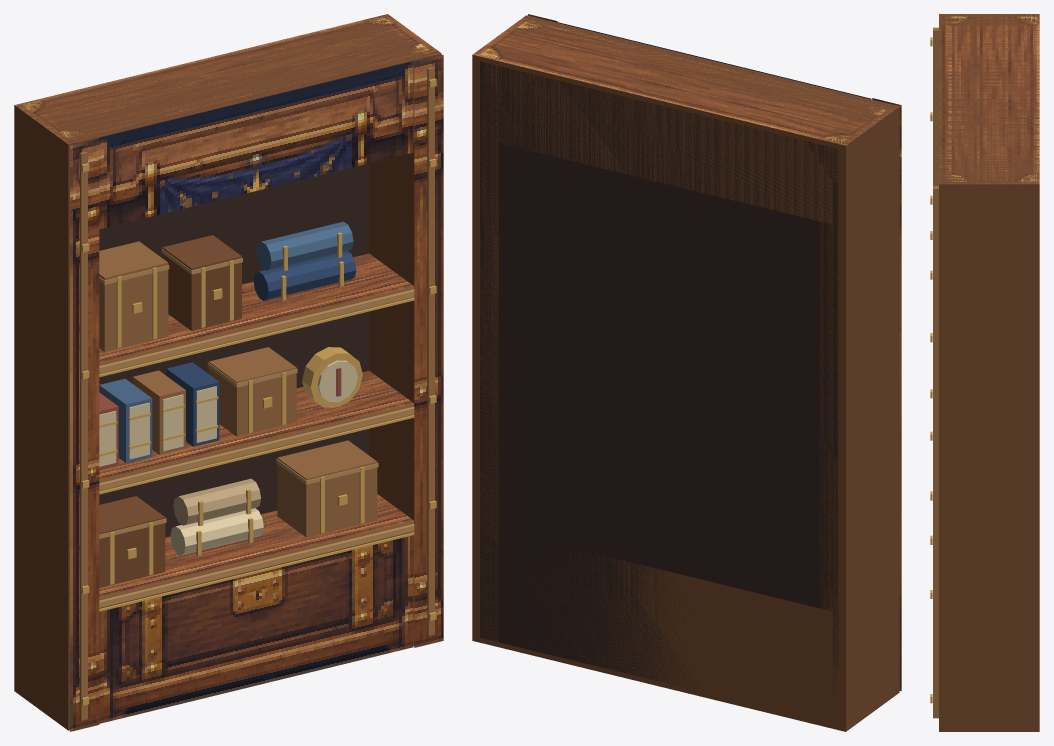
File: travel-cabinet.glb
The picture shows the model from 3 angles, left to right: view 1: azimuth 30°, elevation 25°; view 2: azimuth 150°, elevation 25°; view 3: azimuth 270°, elevation 25°; orthographic projection. The views are drawn at different scales.
Parts seen in each view (by area): view 1: Travel Cabinet with 3D Wares; view 2: Travel Cabinet with 3D Wares; view 3: Travel Cabinet with 3D Wares.
Part boxes in pixels (box(x1,y1,x2,y2)): Travel Cabinet with 3D Wares: box(14, 14, 443, 731); Travel Cabinet with 3D Wares: box(472, 14, 901, 731); Travel Cabinet with 3D Wares: box(930, 14, 1039, 731).
Size of the model in its own units: 2 by 3 by 0.543.
13 materials, 1 textured.
